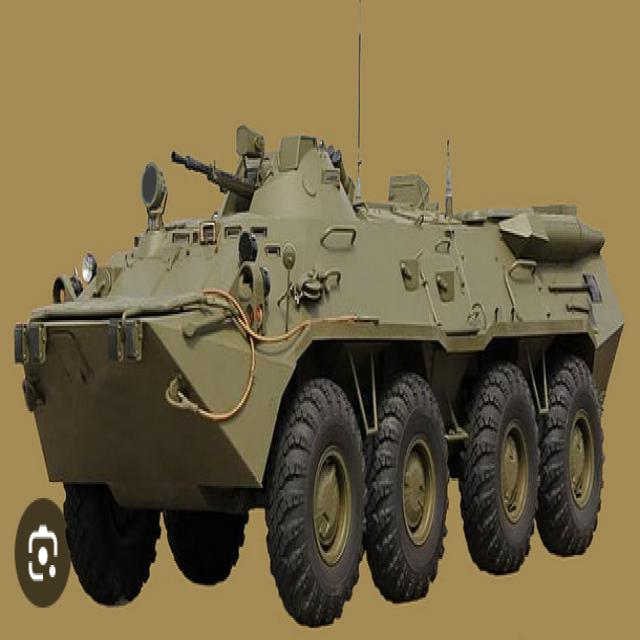MIL_APC: (10, 164, 634, 616)
